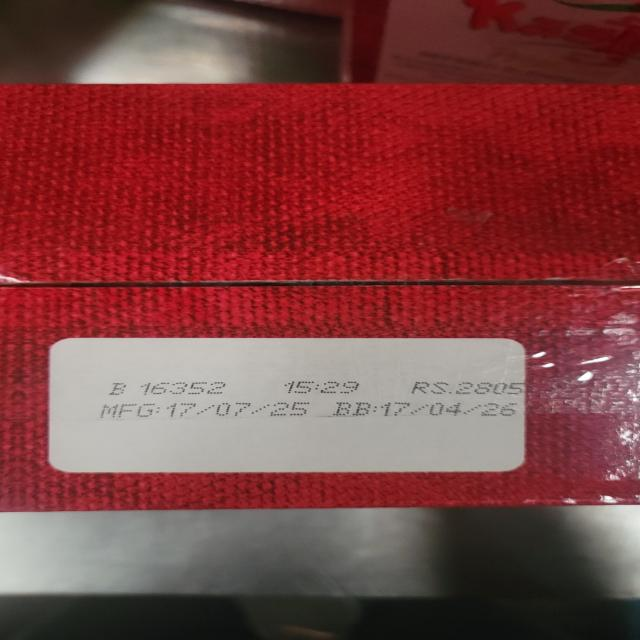BB: (328, 400, 519, 418)
Batch: (107, 380, 228, 396)
MFG: (95, 402, 312, 418)
RS: (412, 380, 528, 397)
TimeStamp: (286, 380, 359, 396)
